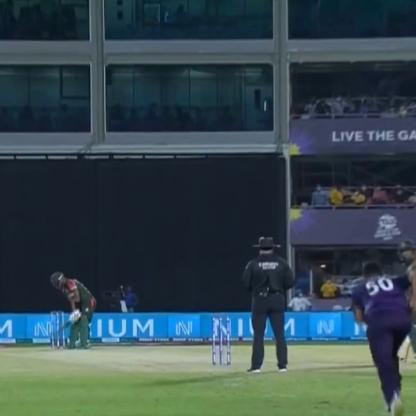pitch: (1, 332, 327, 378)
